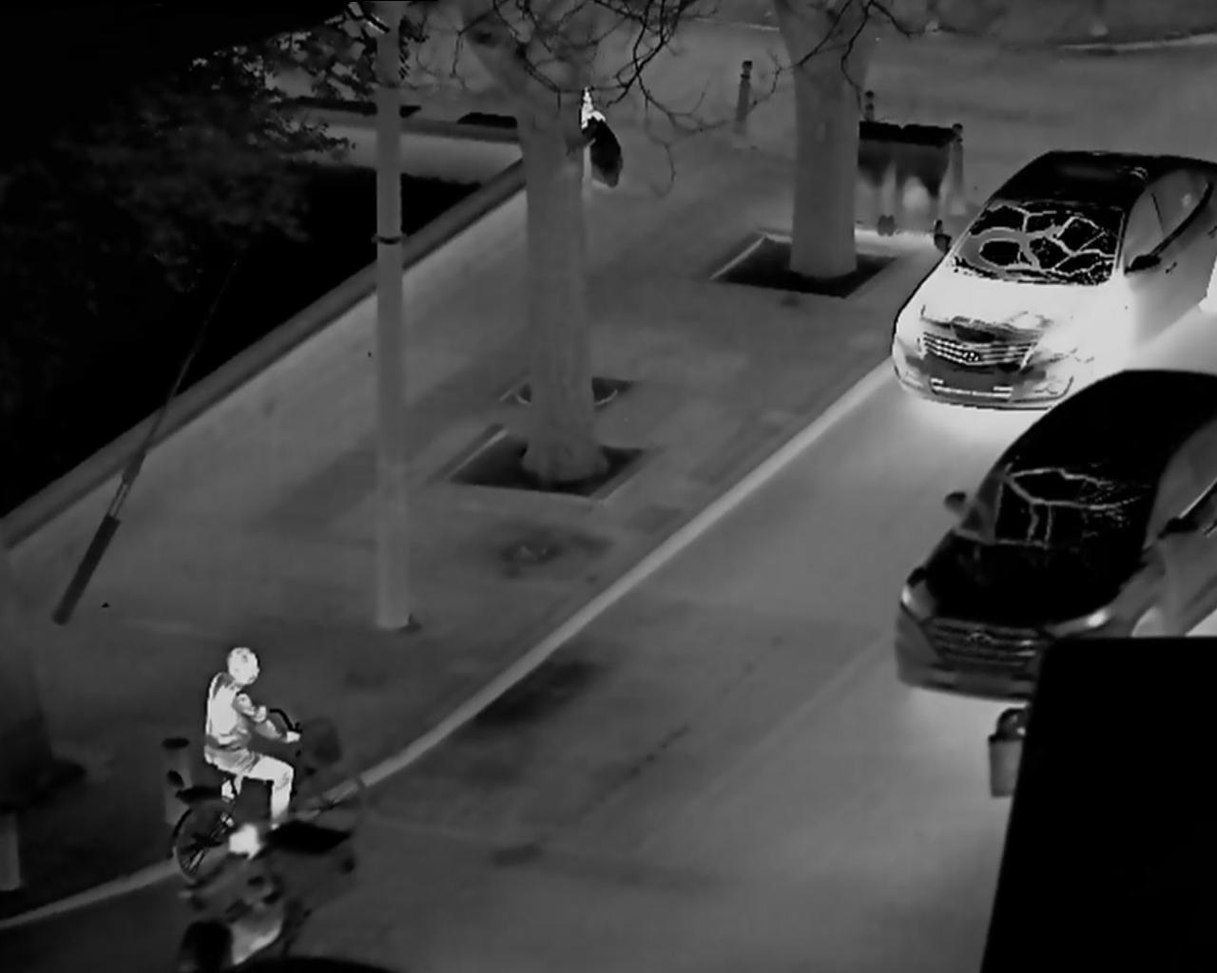person: (181, 636, 319, 849), (164, 818, 310, 951)
